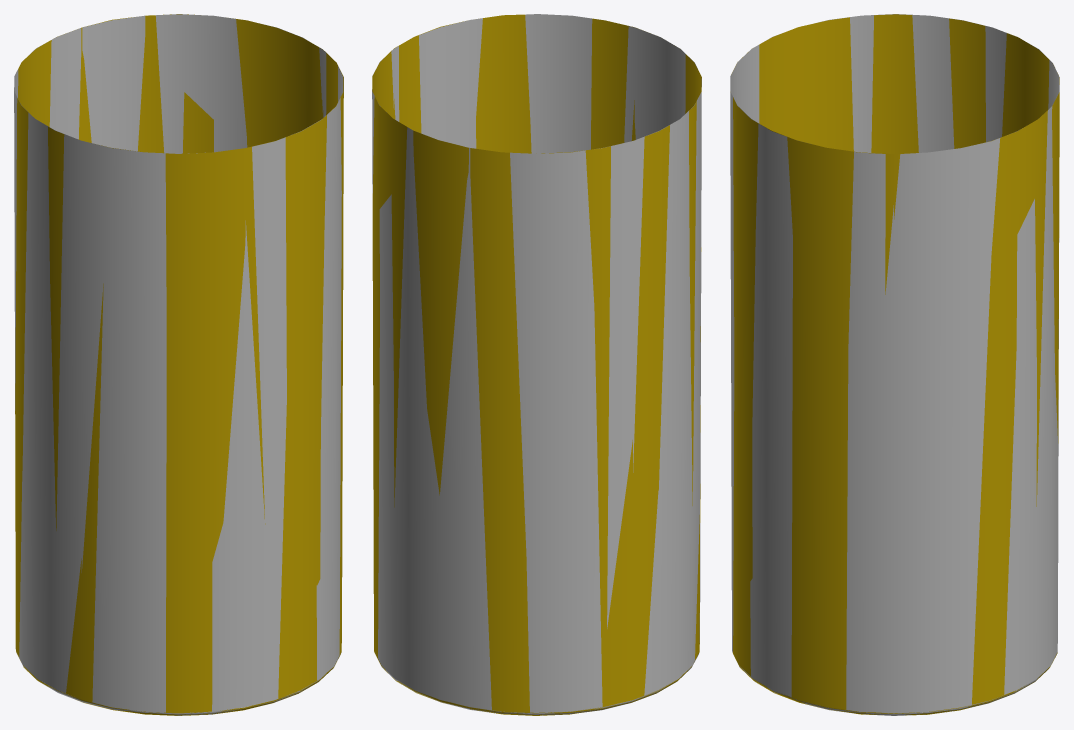
Rendered from original-2.obj.
3 views of the same model, side by side, from view 1: azimuth 30°, elevation 25°; view 2: azimuth 150°, elevation 25°; view 3: azimuth 270°, elevation 25° (orthographic).
Parts seen in each view (by area): view 1: group_1/ID15#ID15; view 2: group_1/ID15#ID15; view 3: group_1/ID15#ID15.
Boxes of the visible parts, box(x1,y1,x2,y2) form: group_1/ID15#ID15: box(14, 14, 343, 715); group_1/ID15#ID15: box(372, 14, 701, 715); group_1/ID15#ID15: box(730, 14, 1059, 715).
Bounding box in the file's own units: 0.1322 × 0.2486 × 0.1315.
